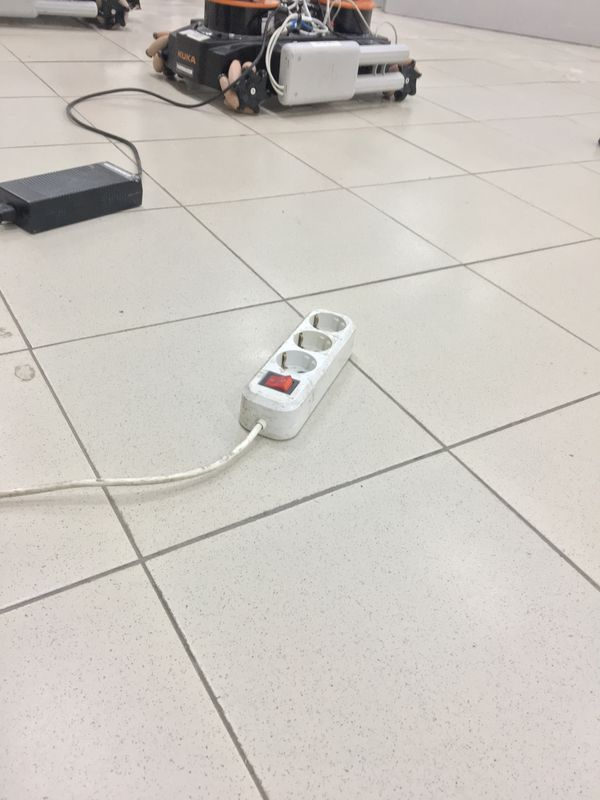socket: (230, 305, 363, 447)
